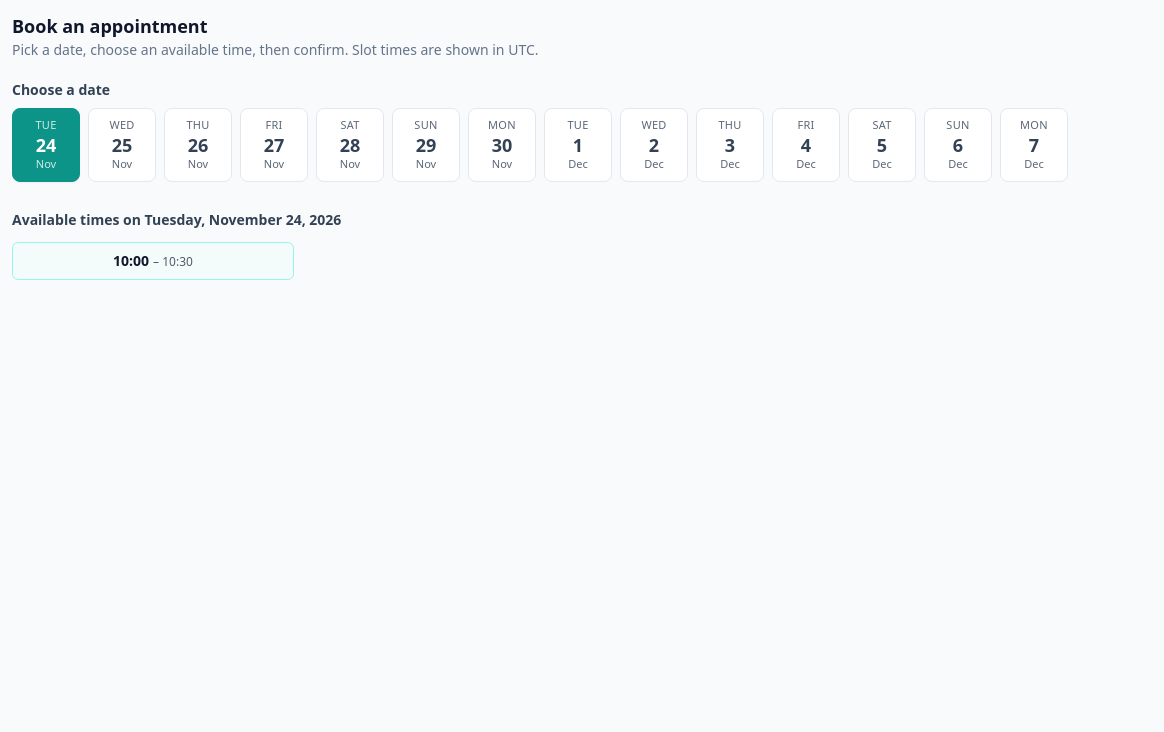
BookingSection › recovers when another patient takes the slot first (409 SLOT_TAKEN)
The image size is (1164, 732).
What coordinates should you click on to do the following:
click the button with aria-label "select "
I would click on:
 (122, 145)
Its box is [88,108,156,182].
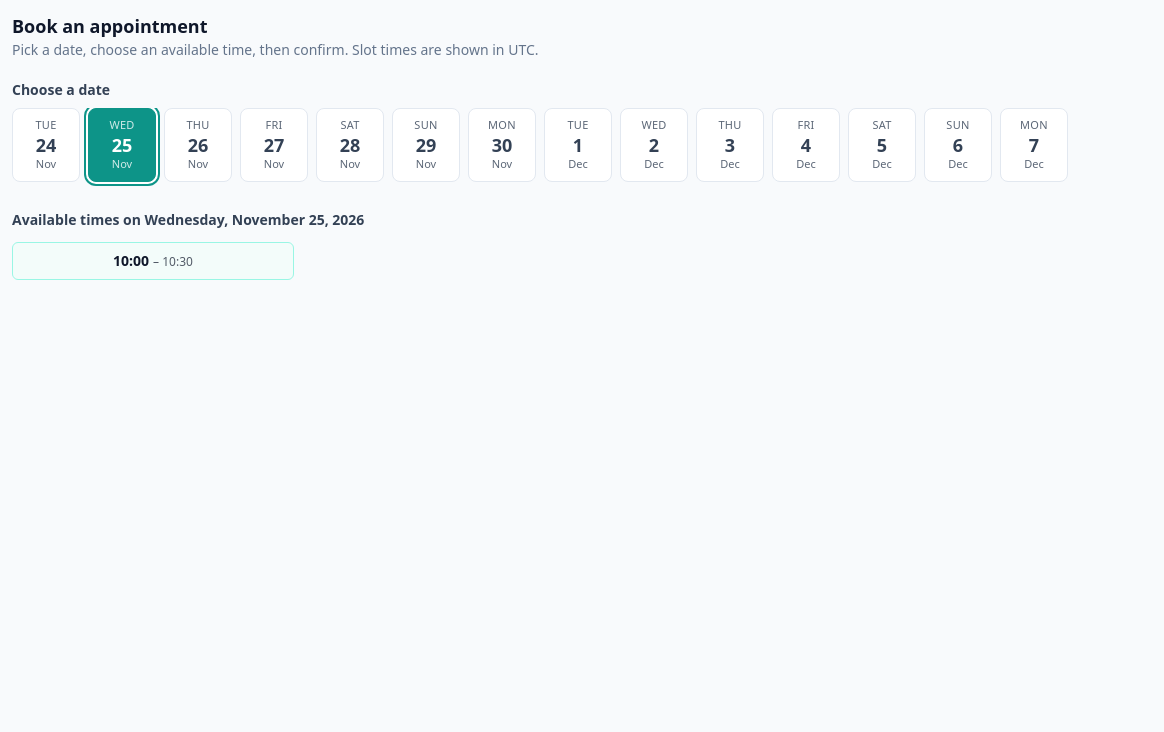
What coordinates should you click on to do the following:
click the button named "book 10:00 to 10:30"
I would click on:
 (153, 260)
Its box is [12,242,294,280].
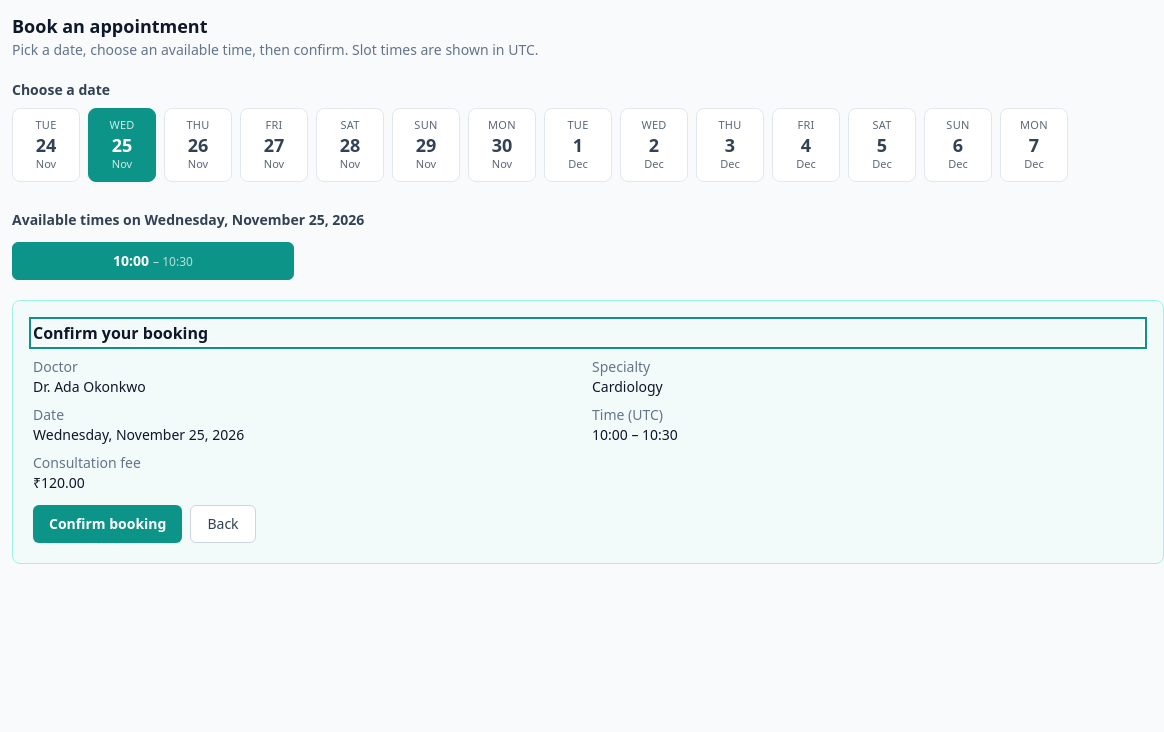
What coordinates should you click on to do the following:
click the button "Confirm booking"
I would click on:
 (108, 524)
Its box is [33,504,182,542].
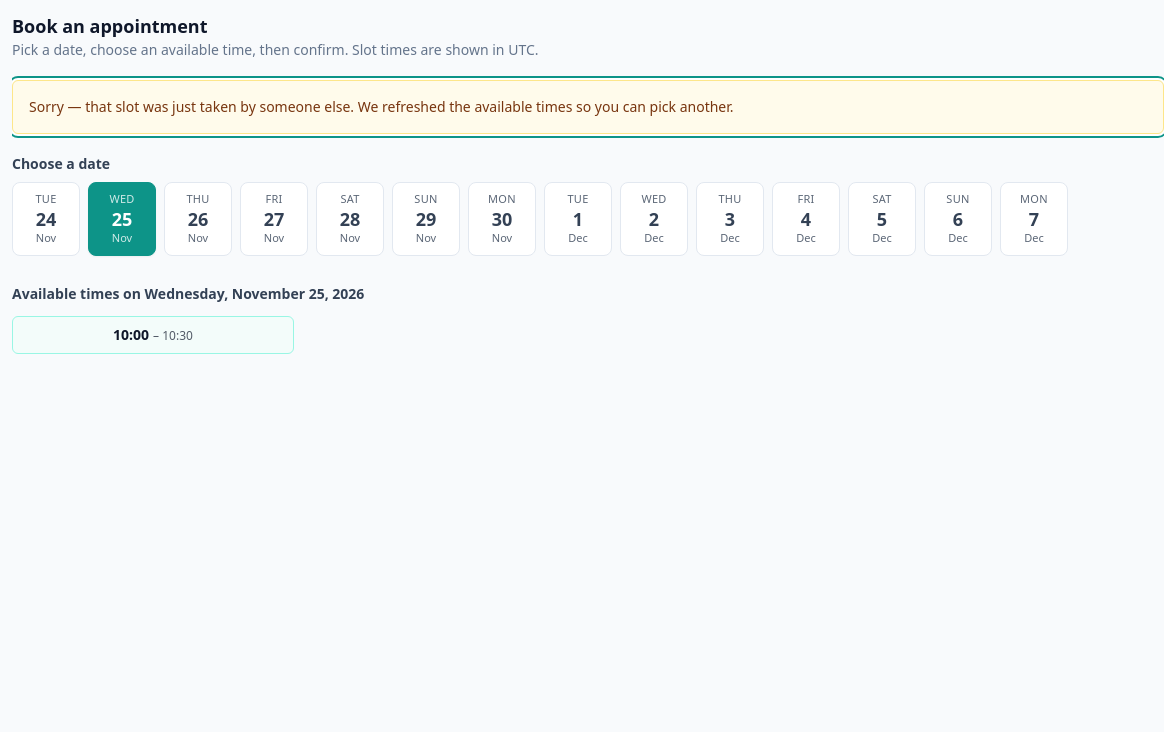
Expected: the message shows "just taken by someone else", [29,97,734,116]
Expected: the button "Confirm booking" is gone
